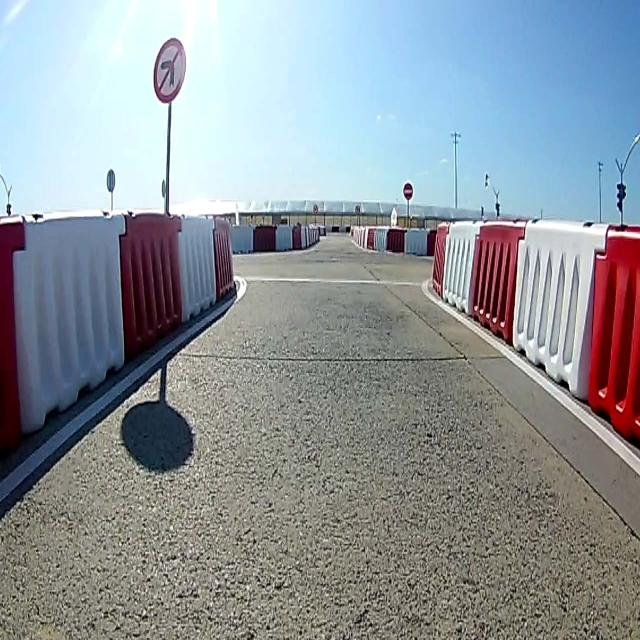girisyok: (401, 178, 413, 201)
soladonulmez: (152, 36, 186, 102)
